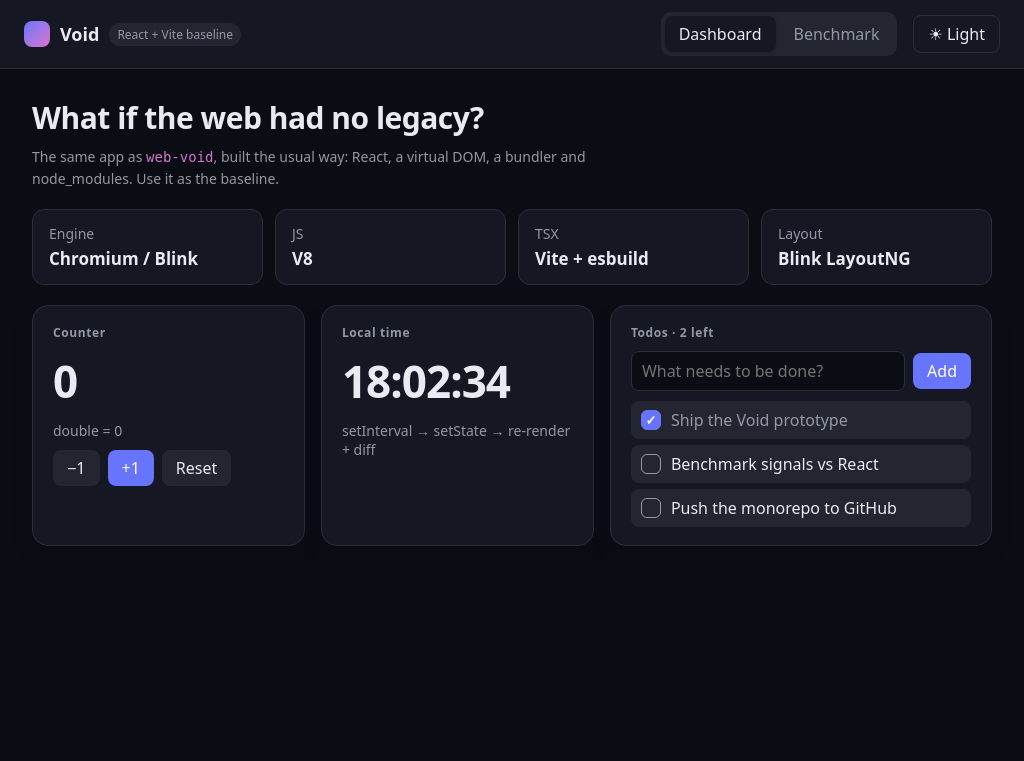
Test: web-react baseline › runs the benchmark
The width and height of the screenshot is (1024, 761).
What coordinates should you click on to do the following:
click the button "Benchmark"
I would click on:
 (836, 34)
Its box is [780,16,894,52].
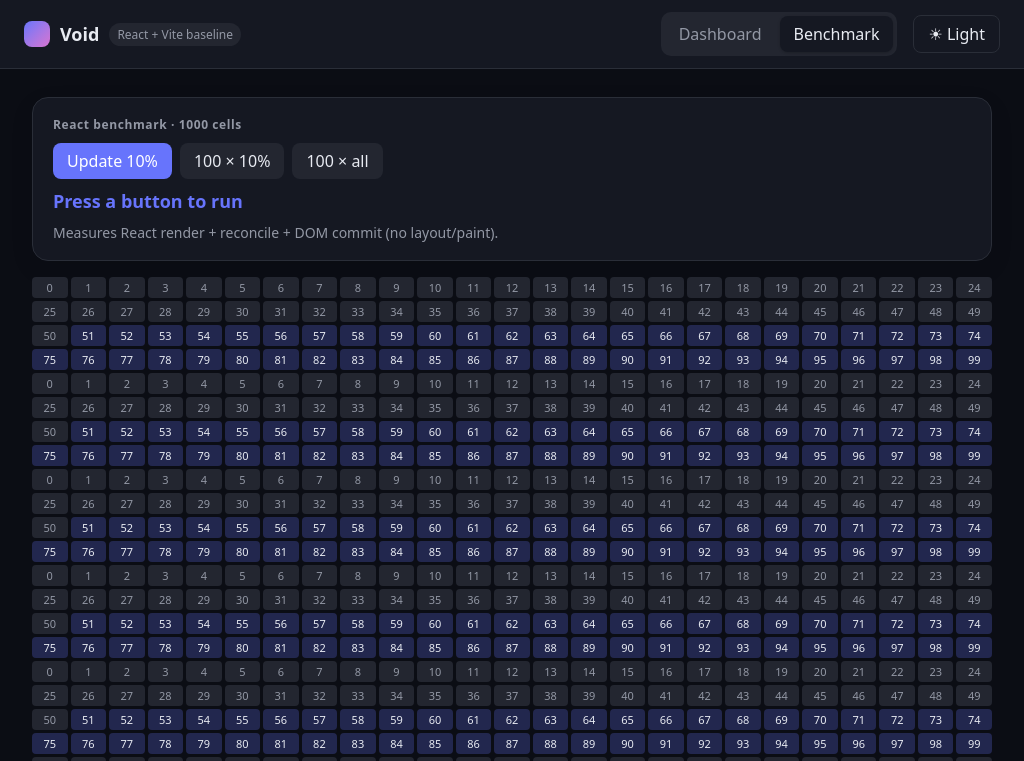
Check: the number of elements with class "cell" is 1000
What coordinates should you click on to do the following:
click the button "Update 10%"
I would click on:
 (112, 161)
Its box is [53,143,172,179].
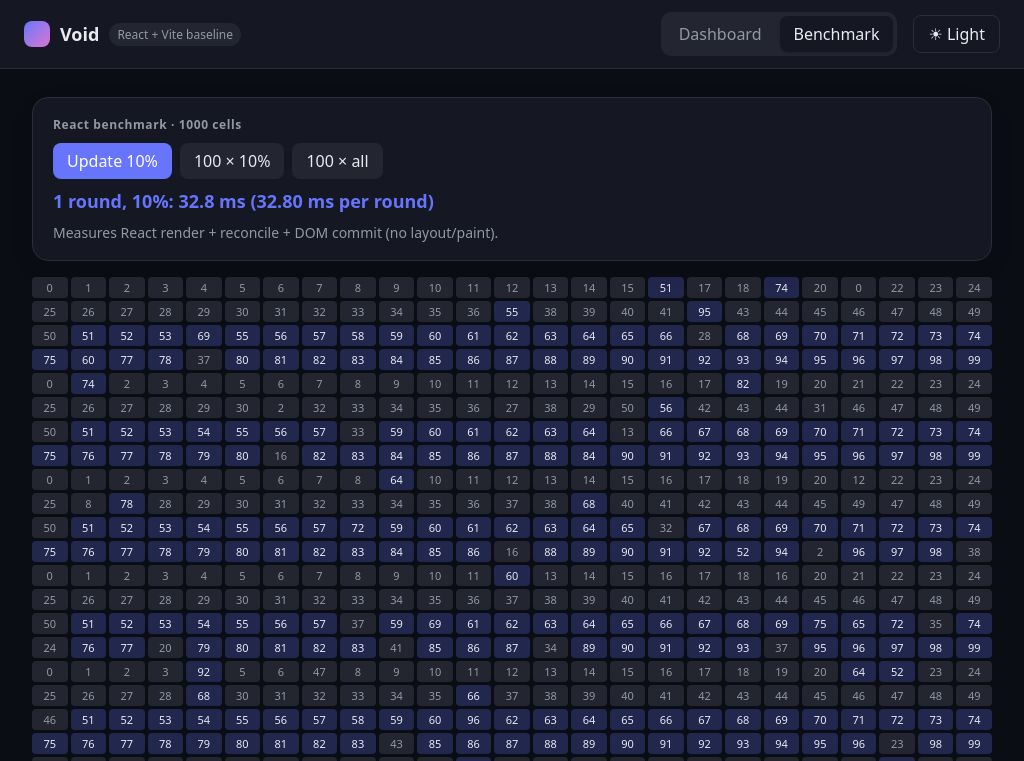
Check: the text "1 round, 10%: 32.8 ms (32.80 ms per round)" is shown, box [53,189,434,213]
